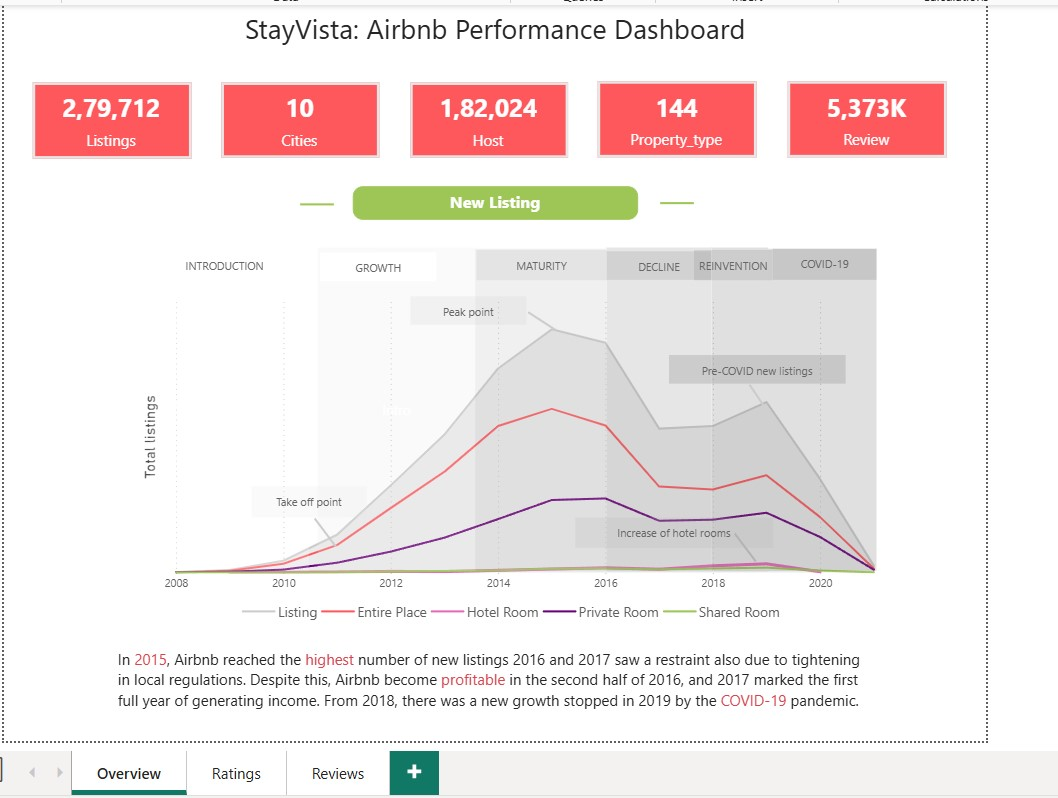

This screenshot's page, from the dashboard's own definition file:
{"tool":"powerbi","page":{"name":"Overview","canvas":[960,720],"ordinal":0},"visuals":[{"type":"textbox","box":[213.4,0,533.2,52.6],"z":0},{"type":"card","fields":{"Values":["CountNonNull(Listings.listing_id)"]},"box":[28.1,75.6,155,74],"z":1000},{"type":"card","fields":{"Values":["Count(Listings.city)"]},"box":[213.2,75.6,154.1,73.4],"z":2000},{"type":"card","fields":{"Values":["Count(Listings.host_id)"]},"box":[397.3,75.6,154.1,73.4],"z":3000},{"type":"card","fields":{"Values":["Count(Listings.property_type)"]},"box":[581.4,74.3,155.3,74.6],"z":4000},{"type":"card","fields":{"Values":["Count(Reviews.review_id)"]},"box":[766.7,74.3,155.3,74.6],"z":5000},{"type":"lineChart","fields":{"Category":["Listings.host_since.Variation.Date Hierarchy.Year"],"Y":["CountNonNull(Listings.listing_id)","Listings.Entire Place","Listings.Hotel Room","Listings.Private Room","Listings.Shared Room"]},"box":[130.1,276.8,738.6,336.3],"z":6000},{"type":"textbox","box":[340.6,177.3,278.8,33],"z":7000},{"type":"shape","box":[289.8,178.5,33,33],"z":8000},{"type":"shape","box":[642,177.3,33,33],"z":9000},{"type":"shape","title":"Introduction","box":[105.2,253.1,141.8,277.6],"z":10000},{"type":"shape","title":"Introduction","box":[143.1,239.7,155.3,314.3],"z":11000},{"type":"shape","title":"Introduction","box":[306.9,237.2,154.1,316.7],"z":12000},{"type":"textbox","box":[159,239.7,113.7,30.6],"z":13000},{"type":"textbox","box":[309.4,242.1,113.7,28.1],"z":14000},{"type":"shape","title":"Introduction","box":[461,238.5,128.4,315.5],"z":15000},{"type":"textbox","box":[462.2,239.7,127.2,29.3],"z":16000},{"type":"shape","title":"Introduction","box":[589.4,237.2,102.7,316.7],"z":17000},{"type":"textbox","box":[589.4,240.9,102.7,28.1],"z":18000},{"type":"shape","title":"Introduction","box":[692.1,237.2,55,316.7],"z":19000},{"type":"textbox","box":[675,239.7,77,29.3],"z":20000},{"type":"shape","title":"Introduction","box":[747.2,238.5,106.4,315.5],"z":21000},{"type":"textbox","box":[752,238.5,101.5,30.6],"z":22000},{"type":"shape","box":[287.4,501.4,53.8,29.3],"z":23000},{"type":"shape","box":[507.5,299.6,37.9,19.6],"z":24000},{"type":"textbox","box":[242.1,470.8,112.5,30.6],"z":25000},{"type":"textbox","box":[397.4,284.9,113.7,28.1],"z":26000},{"type":"shape","box":[720.2,370.5,31.8,22],"z":27000},{"type":"textbox","box":[650.5,342.4,172.4,28.1],"z":28000},{"type":"shape","box":[703.1,516,44,29.3],"z":29000},{"type":"textbox","box":[558.8,501.4,193.2,29.3],"z":30000},{"type":"textbox","box":[106.4,624.9,748.4,75.8],"z":31000}]}

Visuals, with their boxes on the page's 960x720 design canvas (x1, y1, x2, y2). These are canvas units, not pixel positions in the 1058x798 screenshot, which may show the page scaled, cropped or inside an application window:
textbox: 213:0:747:53
card - CountNonNull(Listings.listing_id): 28:76:183:150
card - Count(Listings.city): 213:76:367:149
card - Count(Listings.host_id): 397:76:551:149
card - Count(Listings.property_type): 581:74:737:149
card - Count(Reviews.review_id): 767:74:922:149
lineChart - Listings.host_since.Variation.Date Hierarchy.Year x CountNonNull(Listings.listing_id): 130:277:869:613
textbox: 341:177:619:210
shape: 290:178:323:212
shape: 642:177:675:210
"Introduction" shape: 105:253:247:531
"Introduction" shape: 143:240:298:554
"Introduction" shape: 307:237:461:554
textbox: 159:240:273:270
textbox: 309:242:423:270
"Introduction" shape: 461:238:589:554
textbox: 462:240:589:269
"Introduction" shape: 589:237:692:554
textbox: 589:241:692:269
"Introduction" shape: 692:237:747:554
textbox: 675:240:752:269
"Introduction" shape: 747:238:854:554
textbox: 752:238:854:269
shape: 287:501:341:531
shape: 508:300:545:319
textbox: 242:471:355:501
textbox: 397:285:511:313
shape: 720:370:752:392
textbox: 650:342:823:370
shape: 703:516:747:545
textbox: 559:501:752:531
textbox: 106:625:855:701
